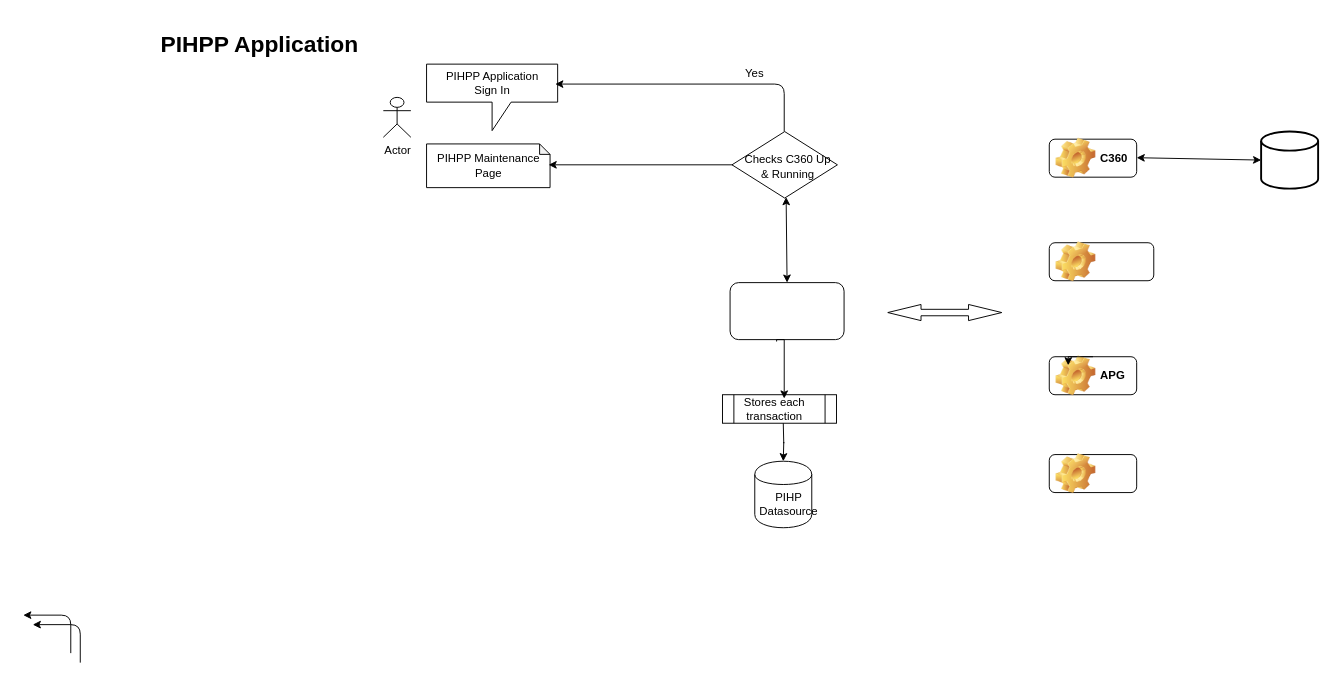
The diagram is 1344 pixels wide and 687 high, and some of its shapes have lost their labels. The shapes that lost their labels are listed below. From the top down, each one's centre as x and y in pixels, then its label:
At point 1289,159: "DMS".
At point 1101,261: "Janrain".
At point 786,311: "PIHPP".
At point 1092,473: "CER or EMC".
